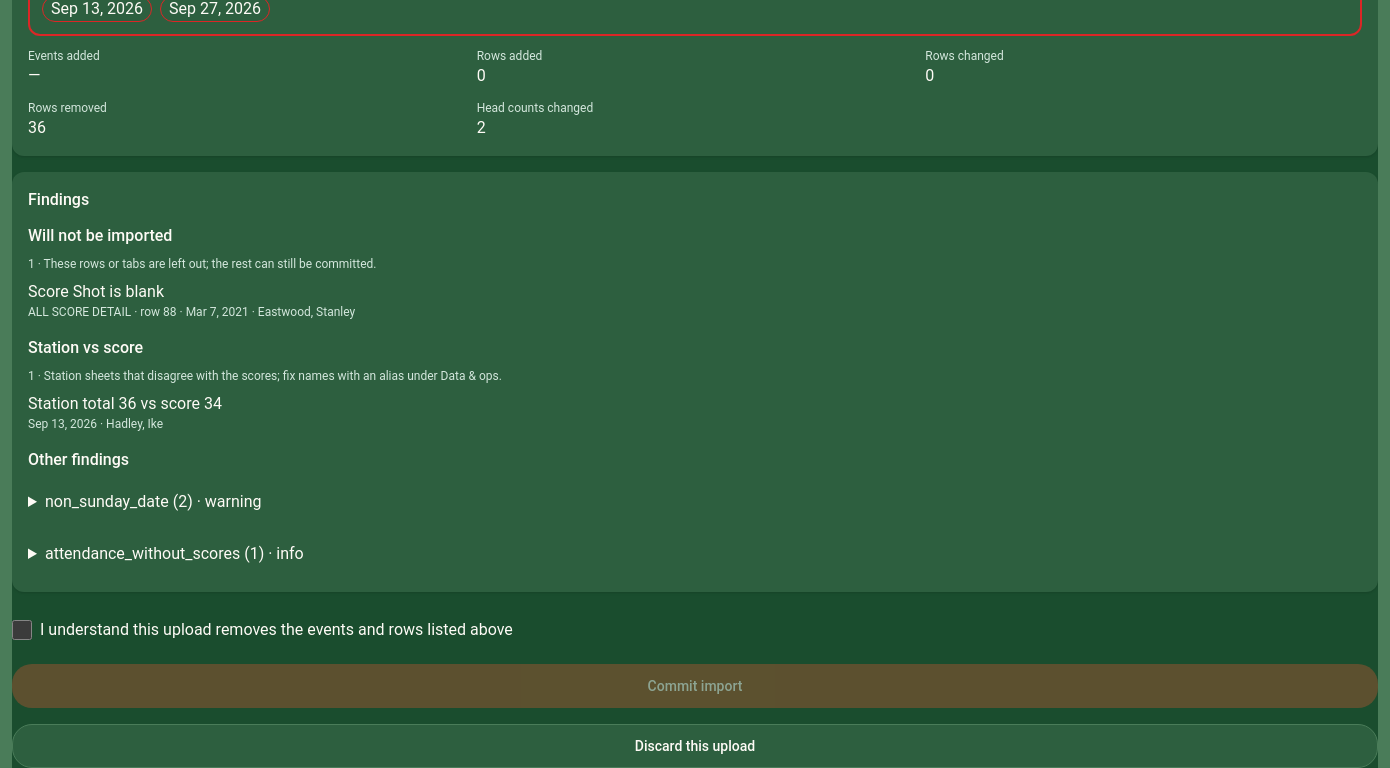
admin routes › commit a pending import and watch the rebuild finish
This screenshot has width=1390, height=768.
(page scrolled)
Click the checkbox labelled "removes the events and rows".
click(22, 630)  # box top-left (12, 620), bottom-right (32, 640)
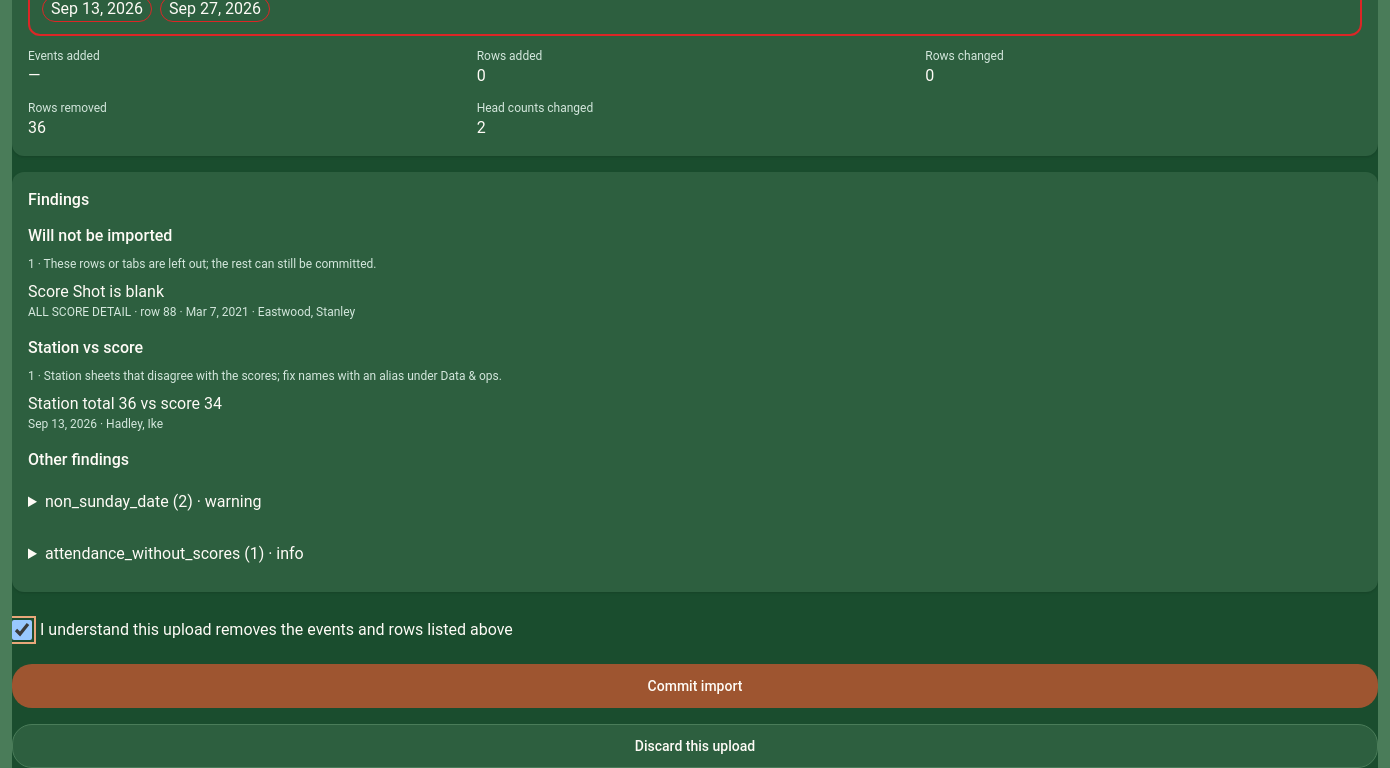
Click the button "Commit import".
click(695, 686)  # box top-left (12, 664), bottom-right (1378, 708)
(page scrolled)
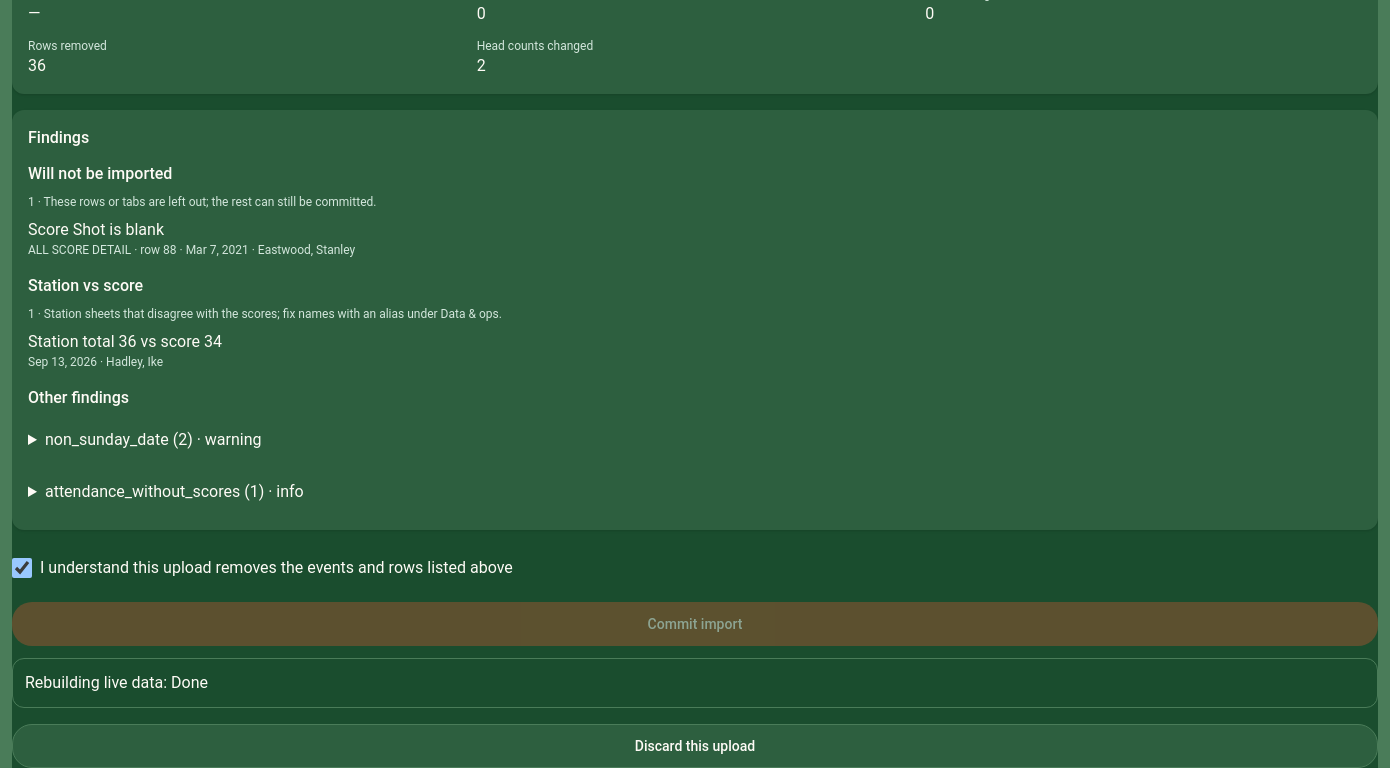
Check: the text "Rebuilding live data: Done" is shown, box top-left (12, 658), bottom-right (1378, 708)
